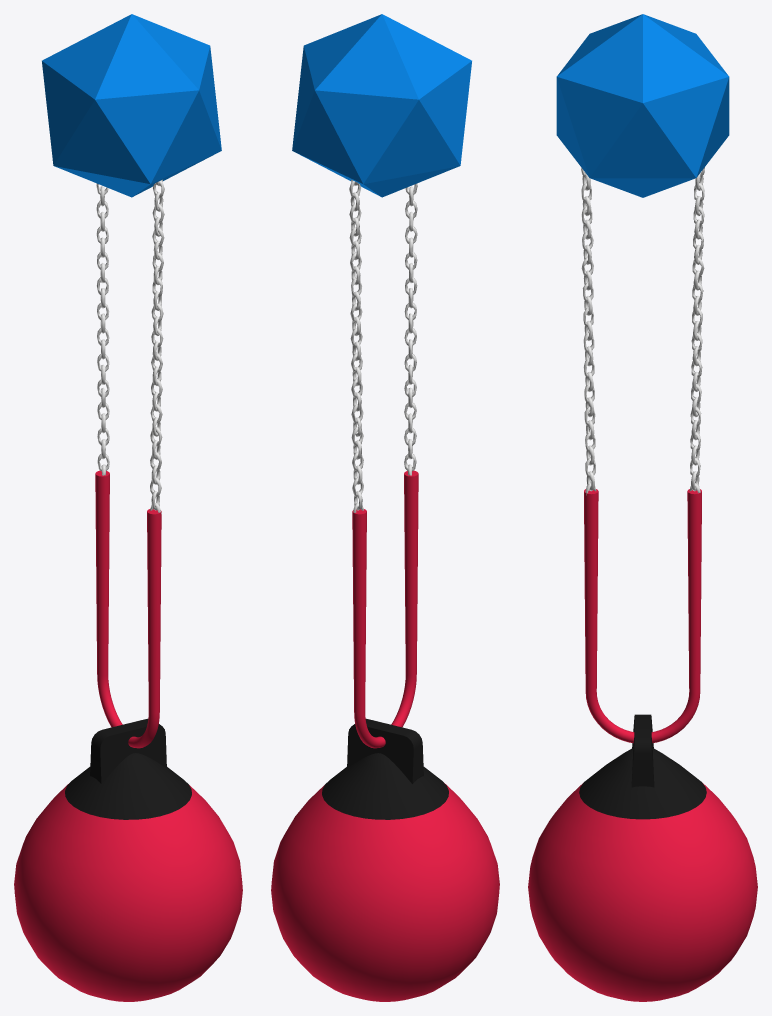
Rendered from Ball swing 8ft.glb.
The picture shows the model from 3 angles, left to right: view 1: azimuth 30°, elevation 25°; view 2: azimuth 150°, elevation 25°; view 3: azimuth 270°, elevation 25°; orthographic projection.
Parts seen in each view (by area): view 1: Sphere, Joint.039, Torus.007, Torus.008, Cube.108; view 2: Sphere, Joint.039, Torus.007, Torus.008, Cube.108; view 3: Sphere, Joint.039, Torus.007, Torus.008, Cube.108.
Boxes of the visible parts, bbox=[...] form: Sphere: bbox=[14, 753, 242, 1001]; Joint.039: bbox=[42, 14, 221, 197]; Torus.007: bbox=[95, 470, 161, 748]; Torus.008: bbox=[96, 179, 164, 513]; Cube.108: bbox=[90, 718, 166, 783]; Sphere: bbox=[271, 753, 499, 1001]; Joint.039: bbox=[292, 14, 471, 197]; Torus.007: bbox=[352, 470, 418, 748]; Torus.008: bbox=[349, 179, 417, 512]; Cube.108: bbox=[347, 718, 423, 783]; Sphere: bbox=[528, 748, 757, 1001]; Joint.039: bbox=[556, 14, 729, 197]; Torus.007: bbox=[584, 489, 701, 743]; Torus.008: bbox=[581, 167, 704, 495]; Cube.108: bbox=[631, 714, 654, 787].
Bounding box in the file's own units: 0.3452 × 1.62 × 0.3452.
